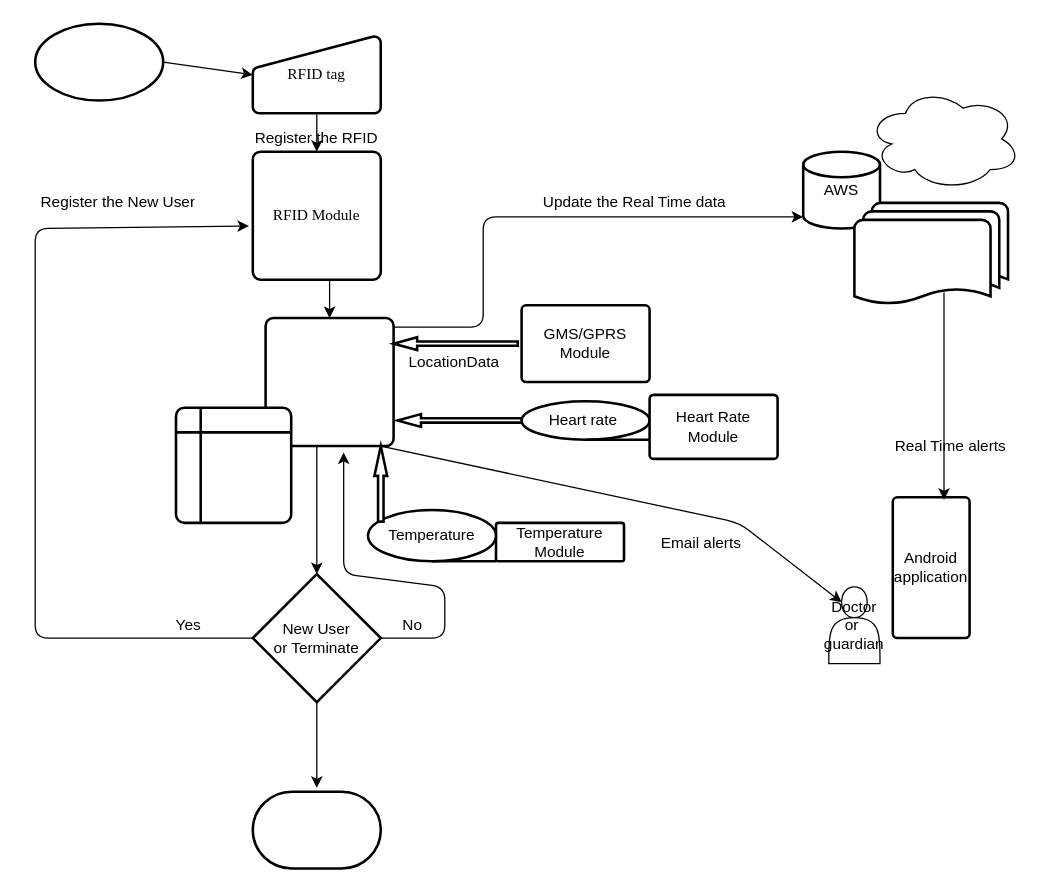
This 1043x891 diagram has some shape labels left out. The shapes that lost their labels are listed below. From the top down, each one's box as (x1, y1, x2, y2) in pixels, then its label:
(33, 22, 164, 101): Start
(866, 86, 1021, 190): Cloud Amazon WS Services
(852, 201, 1009, 306): Real Time data from Raspberry pi
(264, 316, 394, 447): Raspberry Pi 2
(174, 406, 292, 524): Heart rate, Temperature data and GPRS data
(251, 790, 381, 869): Stop
